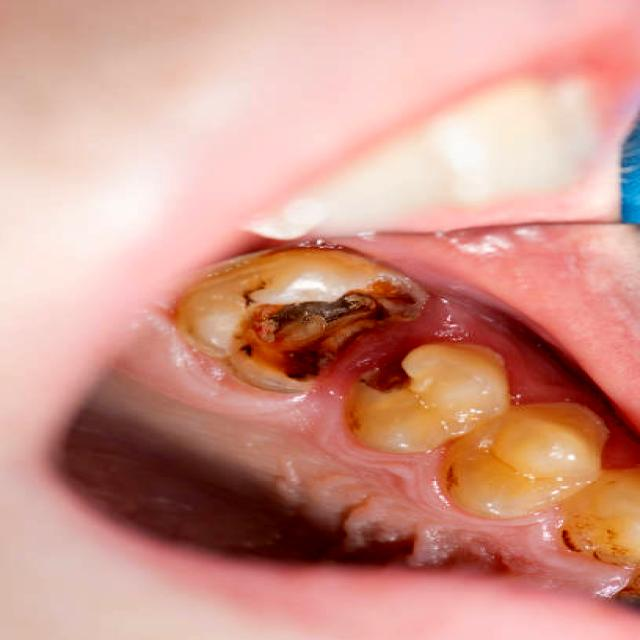cariess: (235, 280, 419, 379)
